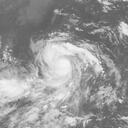cyclone: (38, 40, 83, 92)
